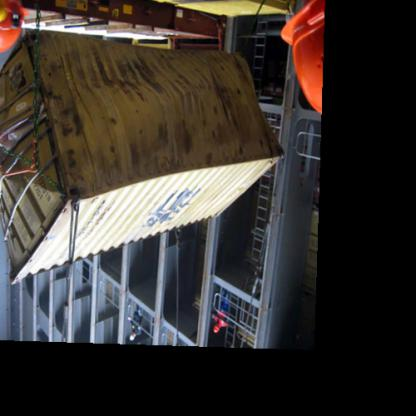Damage: (28, 50, 156, 110), (147, 90, 259, 157), (0, 118, 42, 186)
